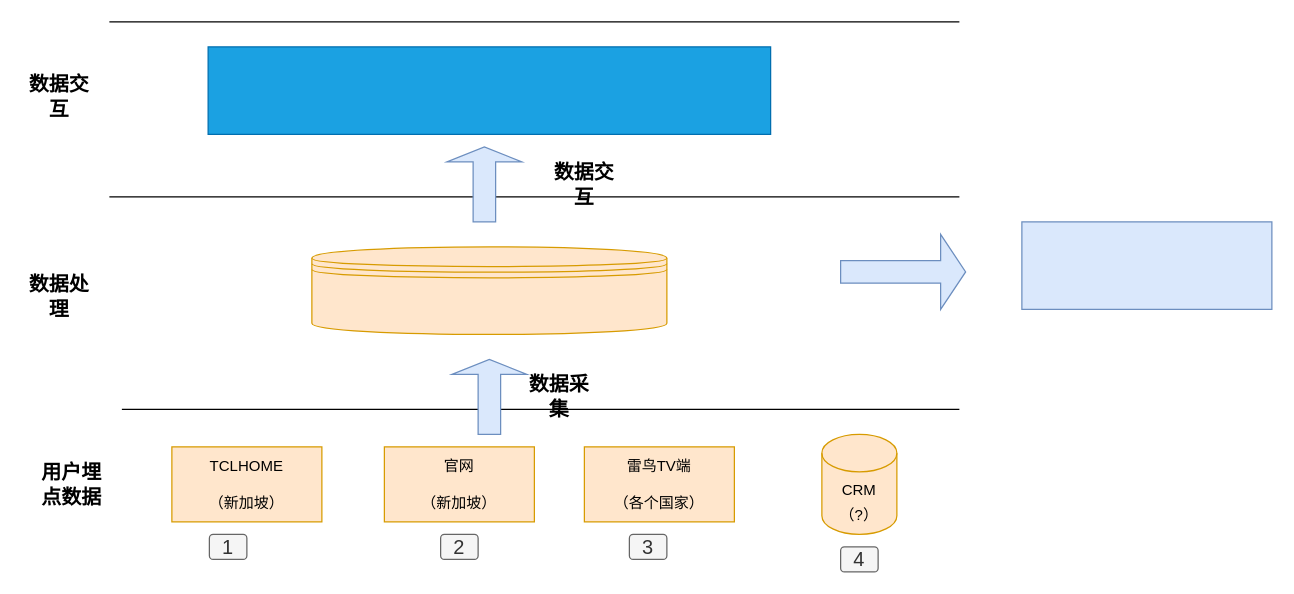
Image size: 1294x594. Some labels were removed from this diagram. The box of each missing label's shape, as (x1, y1, x2, y2) in pixels:
华润通 （新加坡）: (207, 46, 771, 134)
数据仓库（aws redshift）: (311, 246, 667, 334)
数据可视化分析平台: (1021, 221, 1272, 309)
结果输出: (839, 233, 966, 309)
